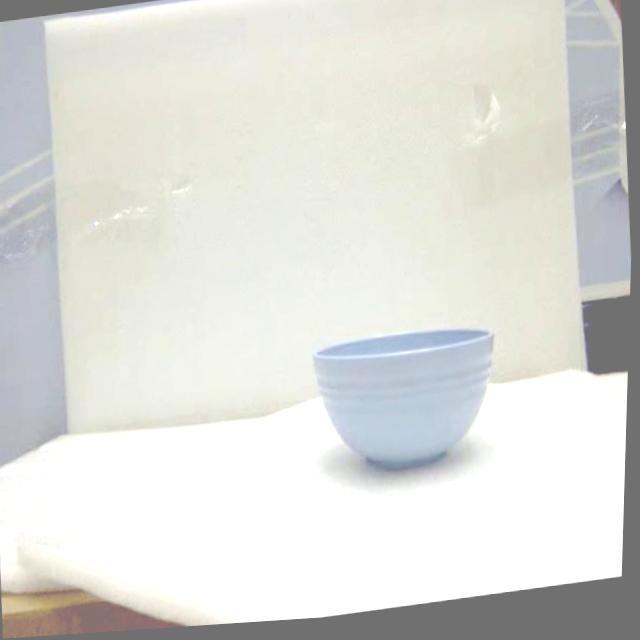Bowl: (314, 329, 493, 469)
